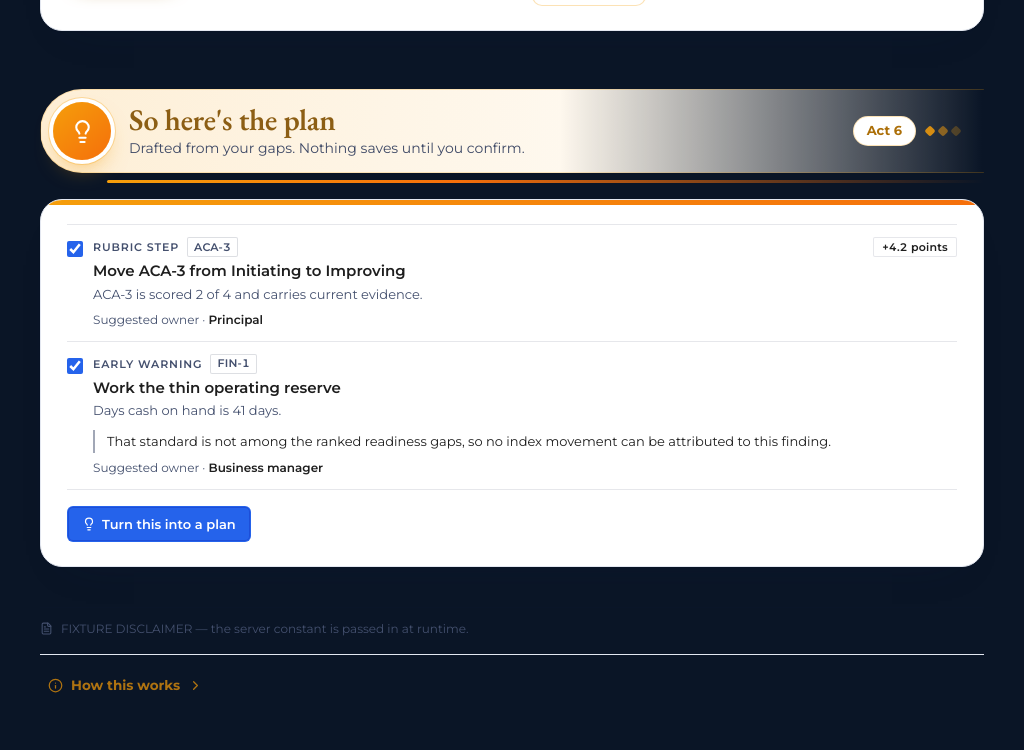
Scenario: SPEC-WEB-9 — the per-row adopt report survives the automatic refetch › a PARTIAL FAILURE is still on screen after /visit refetches
The width and height of the screenshot is (1024, 750).
(page scrolled)
Step 1. Click the button "Turn this into a plan" → click(159, 524), box [67,506,251,542]
(page scrolled)
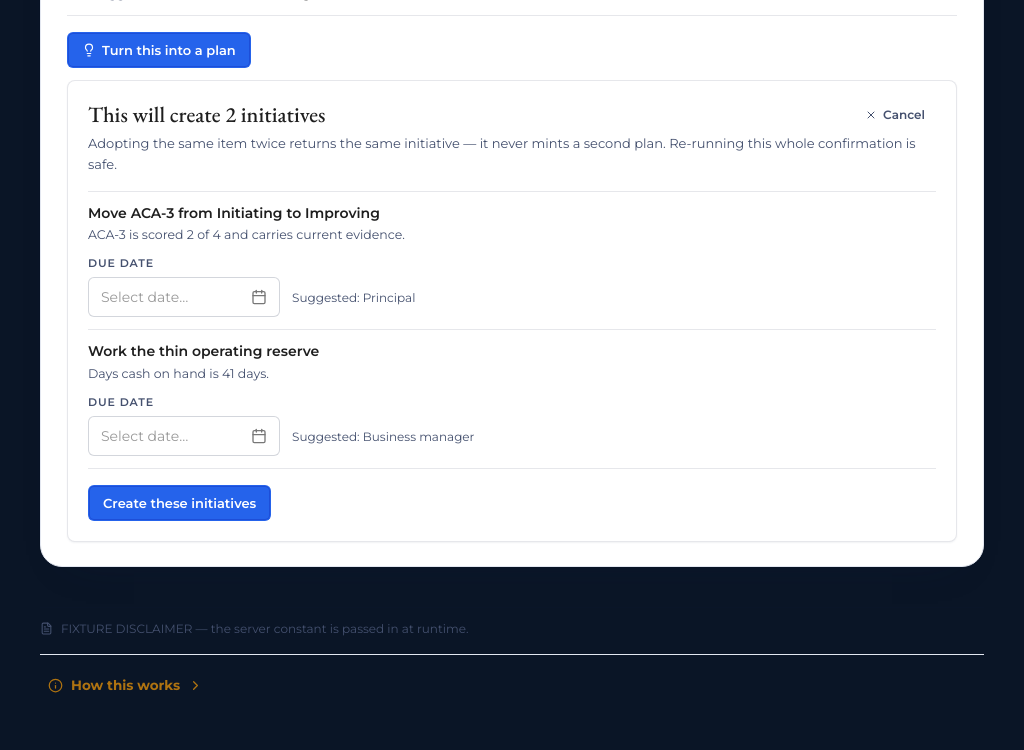
expect the element with test id "plan-confirm" is shown: met, box [67,80,957,542]
Step 2. Click the button "Create these initiatives" → click(180, 503), box [88,485,271,521]
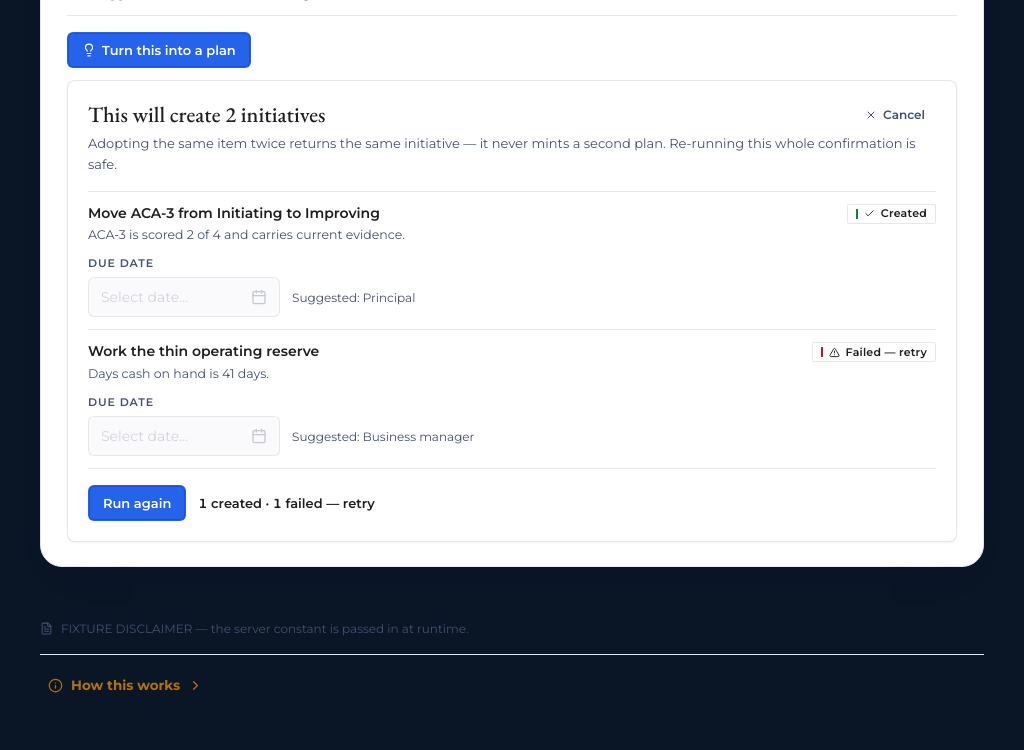
expect the element with test id "plan-confirm" is shown: met, box [67,80,957,542]
expect the text with test id "run-tally" shows "1 created": met, box [198,495,375,511]
expect the text with test id "run-tally" shows "failed — retry": met, box [198,495,375,511]
